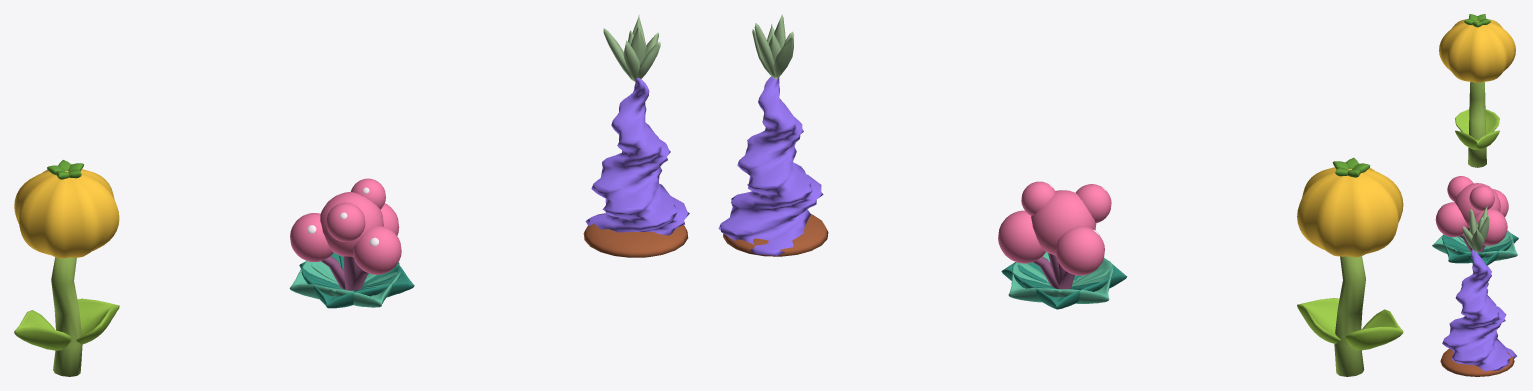
File: plants.glb
3 views of the same model, side by side, from view 1: azimuth 30°, elevation 25°; view 2: azimuth 150°, elevation 25°; view 3: azimuth 270°, elevation 25° (orthographic). The views are drawn at different scales.
Parts seen in each view (by area): view 1: twistroot_fruit, sunny-sprout_fruit, bubble-berry_fruit, bubble-berry, sunny-sprout_stem, sunny-sprout, twistroot_stem, twistroot_leaf, bubble-berry_stem; view 2: twistroot_fruit, bubble-berry_fruit, sunny-sprout_fruit, bubble-berry, sunny-sprout_stem, sunny-sprout, twistroot_leaf, twistroot_stem, bubble-berry_stem; view 3: twistroot_fruit, sunny-sprout_fruit, bubble-berry_fruit, bubble-berry, sunny-sprout_stem, sunny-sprout, twistroot_stem, twistroot_leaf, sunny-sprout_cap, bubble-berry_stem.
Part boxes in pixels (<box>): twistroot_fruit: <box>585,77,689,235</box>; sunny-sprout_fruit: <box>14,169,119,258</box>; bubble-berry_fruit: <box>290,178,401,274</box>; bubble-berry: <box>289,252,414,308</box>; sunny-sprout_stem: <box>51,257,82,376</box>; sunny-sprout: <box>14,298,119,350</box>; twistroot_stem: <box>583,213,688,257</box>; twistroot_leaf: <box>603,14,660,81</box>; bubble-berry_stem: <box>321,256,368,290</box>; twistroot_fruit: <box>718,76,823,255</box>; bubble-berry_fruit: <box>998,181,1111,275</box>; sunny-sprout_fruit: <box>1297,167,1403,257</box>; bubble-berry: <box>1001,252,1127,309</box>; sunny-sprout_stem: <box>1334,256,1365,376</box>; sunny-sprout: <box>1297,298,1403,350</box>; twistroot_leaf: <box>752,14,793,79</box>; twistroot_stem: <box>723,214,828,256</box>; bubble-berry_stem: <box>1033,253,1074,289</box>; twistroot_fruit: <box>1442,249,1516,371</box>; sunny-sprout_fruit: <box>1439,19,1515,83</box>; bubble-berry_fruit: <box>1435,176,1508,245</box>; bubble-berry: <box>1432,230,1518,265</box>; sunny-sprout_stem: <box>1468,81,1486,167</box>; sunny-sprout: <box>1455,109,1499,149</box>; twistroot_stem: <box>1440,348,1514,376</box>; twistroot_leaf: <box>1463,206,1489,252</box>; sunny-sprout_cap: <box>1464,14,1490,27</box>; bubble-berry_stem: <box>1459,227,1485,252</box>.
Size of the model in its own units: 4.69 by 1.45 by 0.7477.
